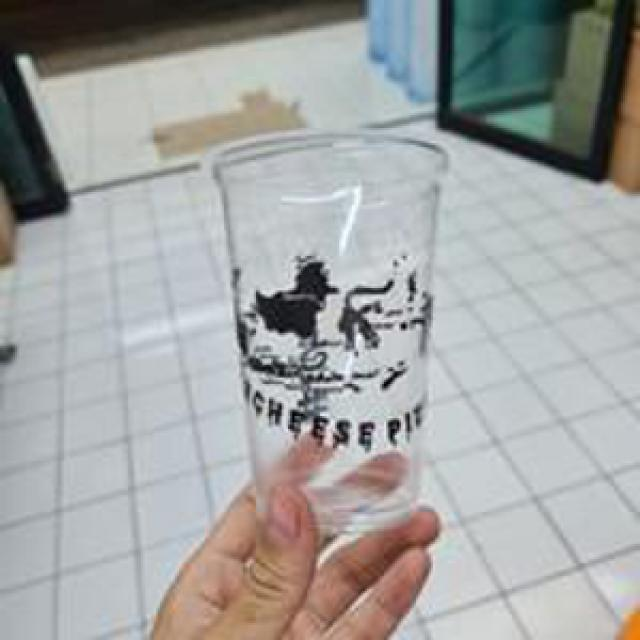plastic cup: (198, 126, 459, 542)
